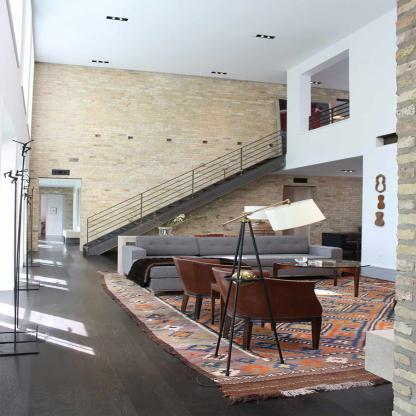lampu: (212, 265, 327, 354), (238, 198, 327, 237)
sova: (122, 236, 352, 288)
